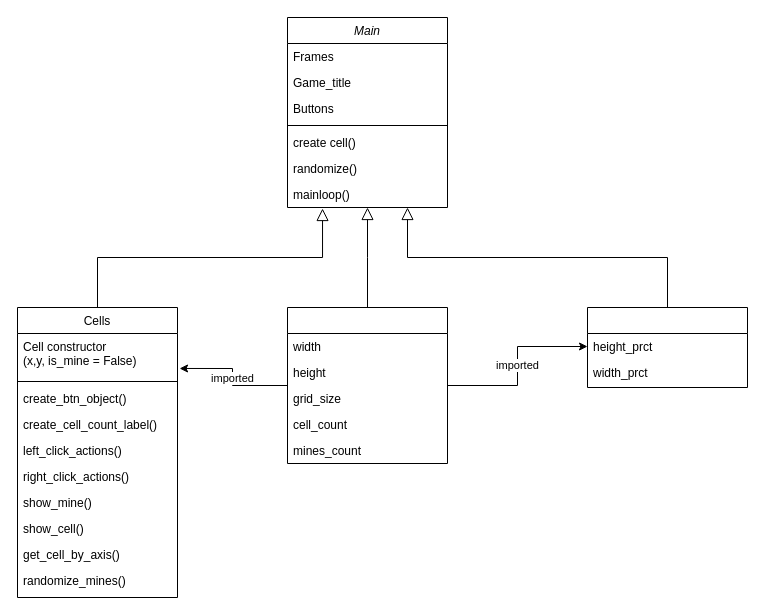
Some shapes in this 765 by 615 pixel diagram are drawn without their labels. Here are the shapes that lost their labels. From the top down, the box of each, then its label:
(586, 306, 748, 388): Utils
(286, 306, 448, 464): Settings
